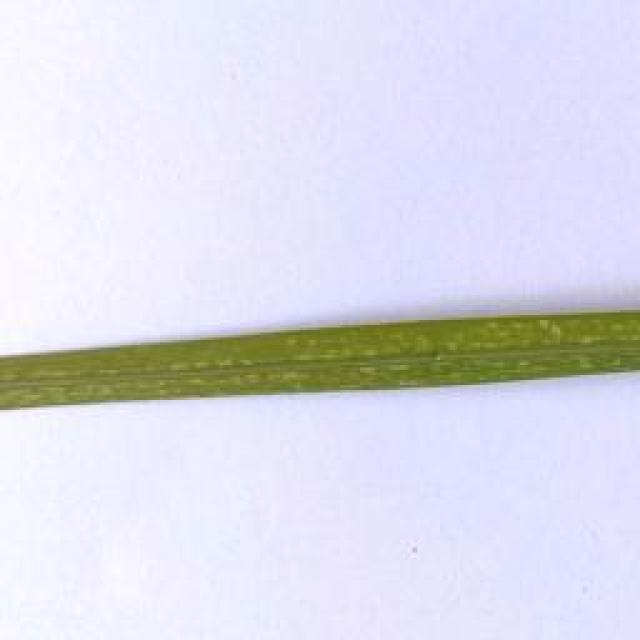Healthy-Plant: (0, 304, 640, 410)
